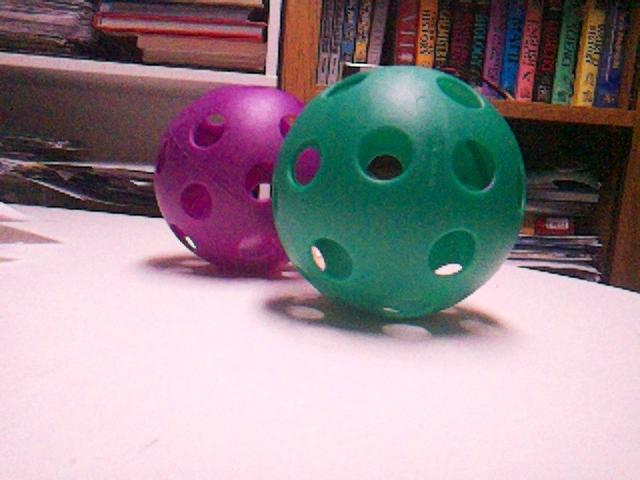Green: (271, 67, 523, 317)
Purple: (151, 86, 307, 274)
